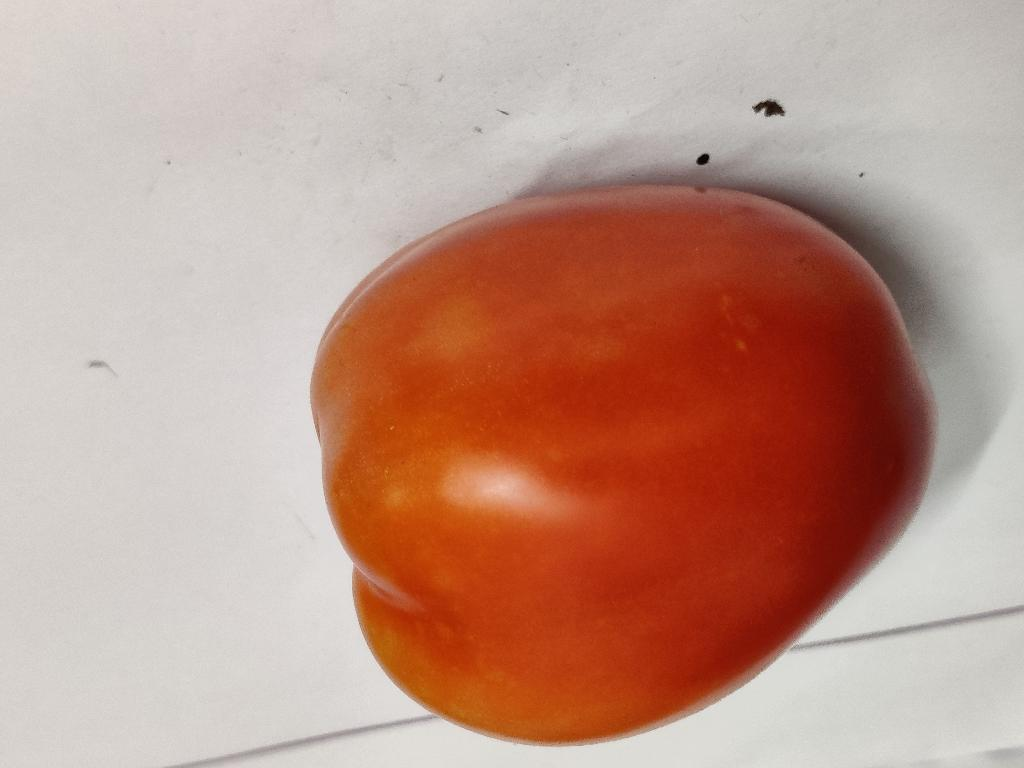tomato: (313, 187, 934, 742)
